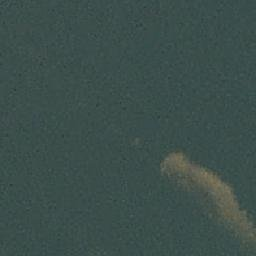debris: (219, 178, 252, 240), (191, 161, 216, 204), (162, 149, 188, 184)
